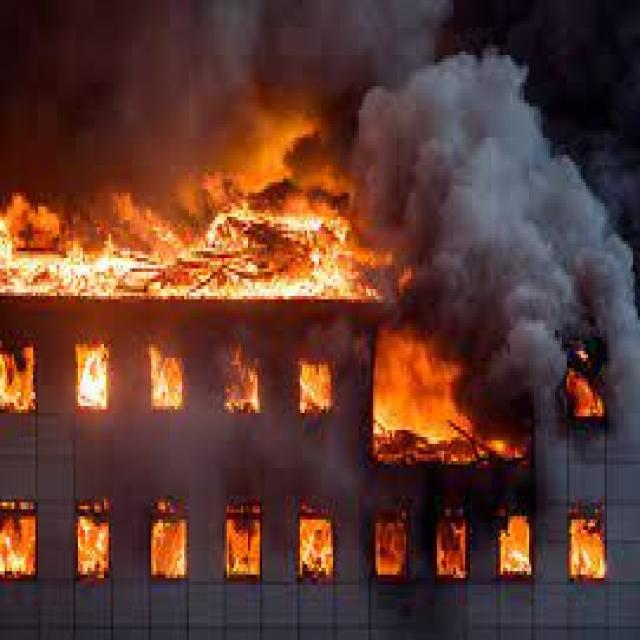Fire: (1, 182, 372, 311), (372, 337, 532, 466), (3, 506, 40, 574), (231, 522, 264, 590), (76, 351, 110, 410), (504, 520, 534, 586), (152, 520, 188, 574), (302, 517, 335, 575), (576, 523, 606, 581), (8, 342, 36, 404), (229, 358, 261, 412), (80, 508, 108, 566), (376, 526, 404, 582), (306, 371, 334, 423), (154, 354, 178, 406)
Smoke: (364, 73, 640, 373)
